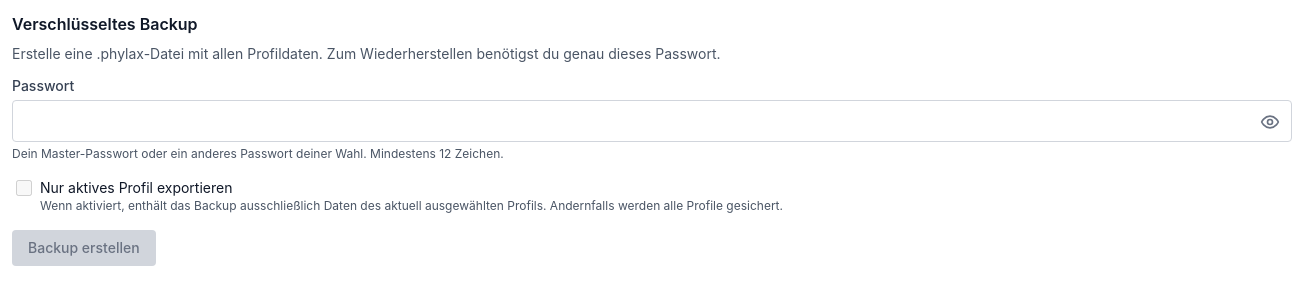
Test case: BackupExportSection › enables submit once the password meets the minimum length
Type "long-enough-12" into the password field labelled "Passwort" at (652, 121), box x1=12 y1=100 x2=1292 y2=142
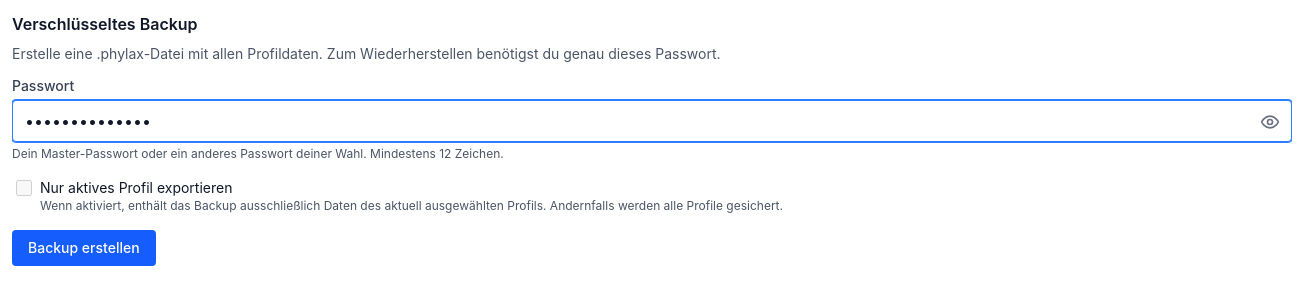
Result: the button "Backup erstellen" is enabled at x1=12 y1=230 x2=156 y2=266
